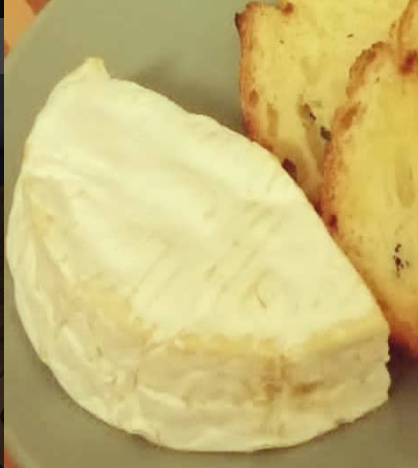camembert: (5, 55, 393, 456)
